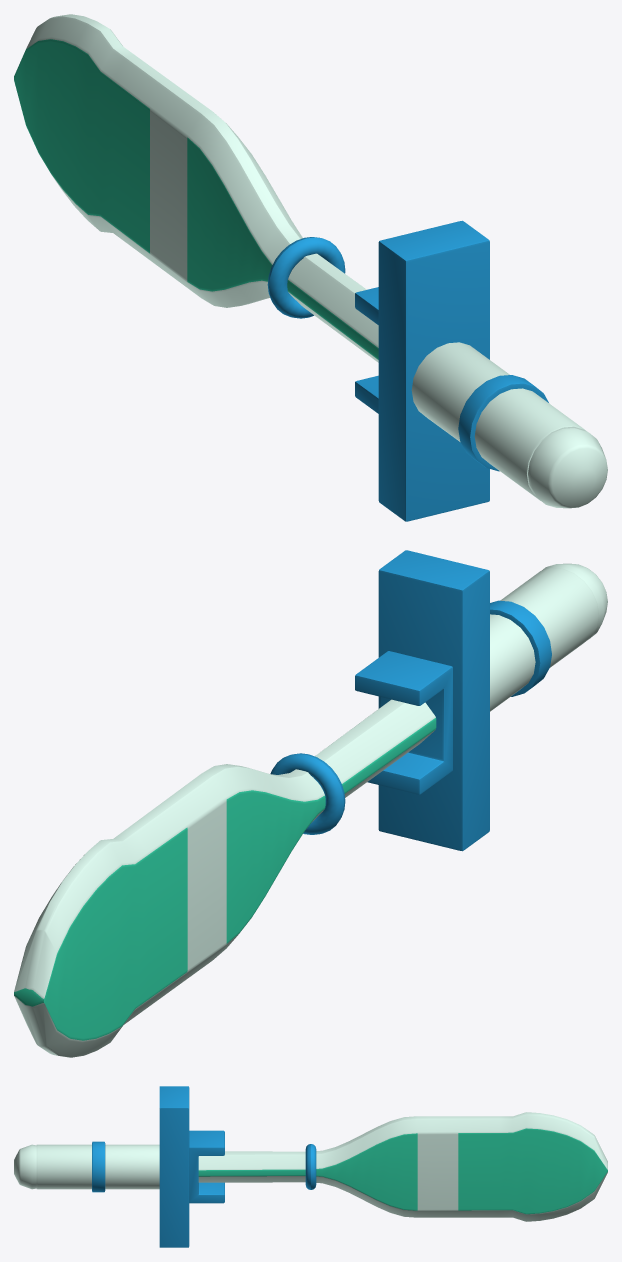
The model's file is Sword_Oarblade.glb.
3 renders of one model, top to bottom at view 1: azimuth 30°, elevation 25°; view 2: azimuth 150°, elevation 25°; view 3: azimuth 270°, elevation 25°, orthographic. The views are drawn at different scales.
Parts seen in each view (by area): view 1: Sword_Oarblade; view 2: Sword_Oarblade; view 3: Sword_Oarblade.
Part boxes in pixels (x1,y1,x2,y2): Sword_Oarblade: (14, 14, 607, 521); Sword_Oarblade: (14, 550, 607, 1057); Sword_Oarblade: (14, 1086, 607, 1247).
Size of the model in its own units: 0.088 by 0.26 by 1.
1 material, 1 textured.
